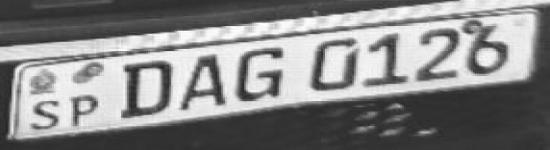0: (304, 34, 364, 93)
1: (362, 31, 413, 90)
2: (413, 24, 467, 83)
6: (467, 20, 518, 79)
A: (174, 51, 232, 111)
D: (113, 58, 176, 119)
G: (232, 44, 290, 103)
P: (66, 92, 104, 129)
S: (28, 98, 62, 132)
